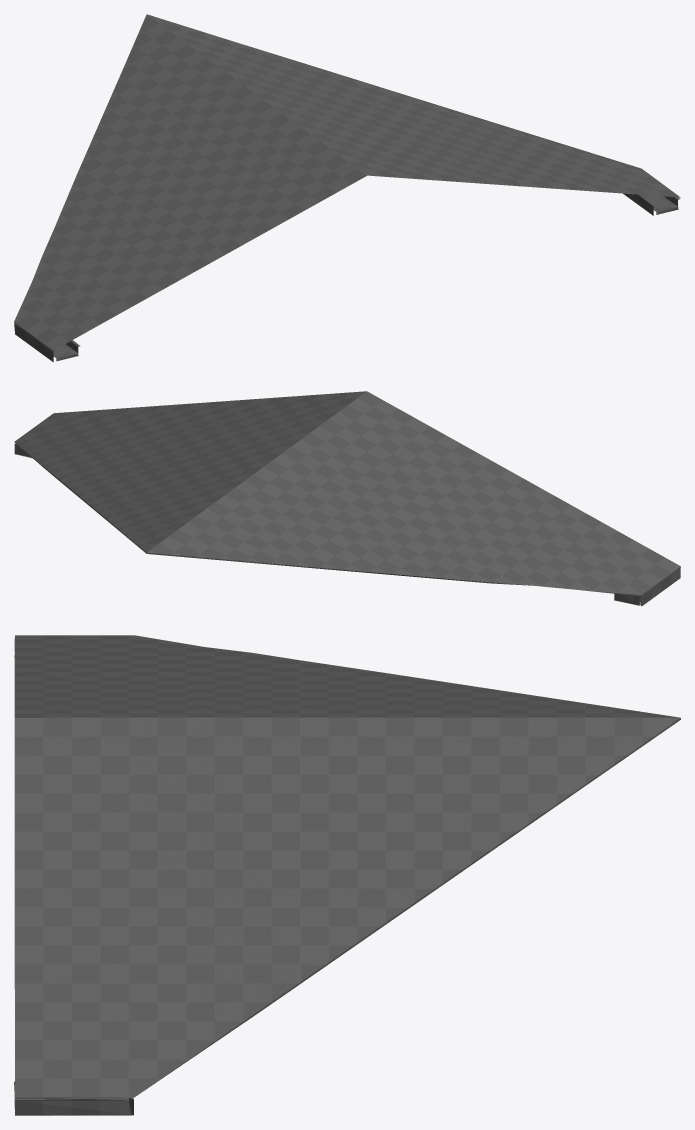
The model's file is SM_House_Roof_A_Merge.glb.
The picture shows the model from 3 angles, top to bottom: view 1: azimuth 30°, elevation 25°; view 2: azimuth 150°, elevation 25°; view 3: azimuth 270°, elevation 25°; orthographic projection. The views are drawn at different scales.
Visible parts, largest first — view 1: SM_House_Roof_A_Merge; view 2: SM_House_Roof_A_Merge; view 3: SM_House_Roof_A_Merge.
Part boxes in pixels (left/top/right/bottom): SM_House_Roof_A_Merge: left=14, top=14, right=680, bottom=362; SM_House_Roof_A_Merge: left=14, top=391, right=680, bottom=606; SM_House_Roof_A_Merge: left=14, top=635, right=680, bottom=1115.
Bounding box in the file's own units: 1151 × 196 × 701.
Materials: 1 (1 with a texture image).
